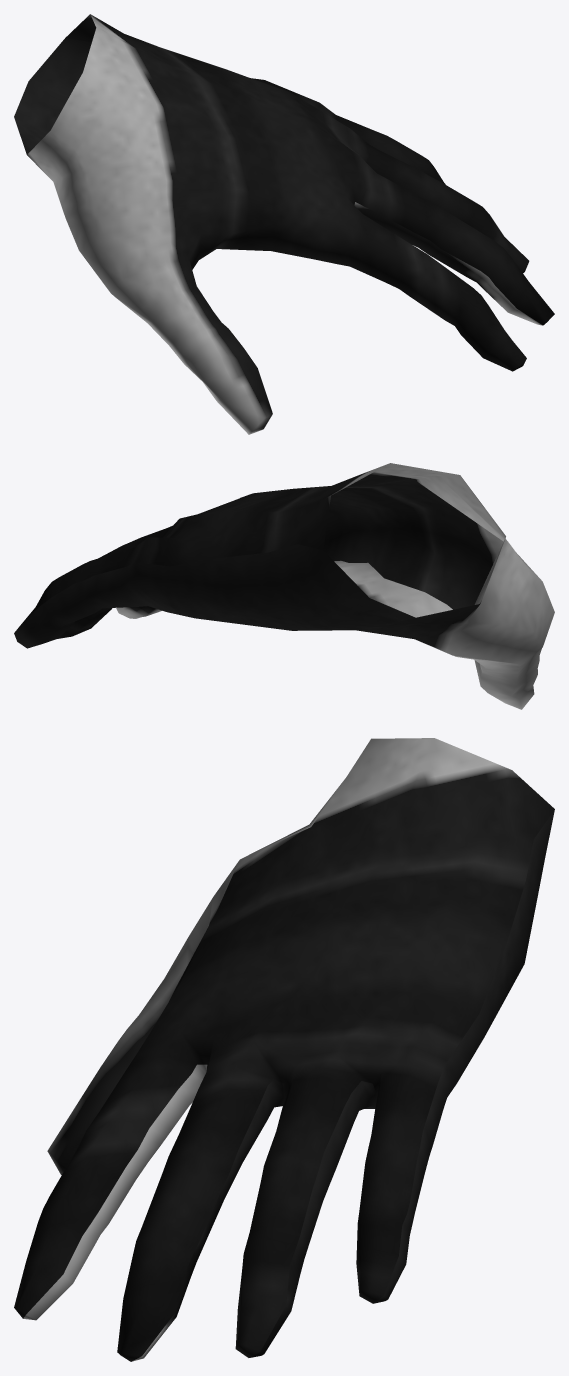
File: Rhand.obj
The picture shows the model from 3 angles, top to bottom: view 1: azimuth 30°, elevation 25°; view 2: azimuth 150°, elevation 25°; view 3: azimuth 270°, elevation 25°; orthographic projection. The views are drawn at different scales.
Parts seen in each view (by area): view 1: polySurface58 polySurface46 polySurface5 Nier2b:Cube; view 2: polySurface58 polySurface46 polySurface5 Nier2b:Cube; view 3: polySurface58 polySurface46 polySurface5 Nier2b:Cube.
Part boxes in pixels (left/top/right/bottom): polySurface58 polySurface46 polySurface5 Nier2b:Cube: left=14, top=14, right=554, bottom=434; polySurface58 polySurface46 polySurface5 Nier2b:Cube: left=14, top=463, right=554, bottom=709; polySurface58 polySurface46 polySurface5 Nier2b:Cube: left=14, top=738, right=554, bottom=1361.
Size of the model in its own units: 3.16 by 2.17 by 2.5.
1 material, 1 textured.
